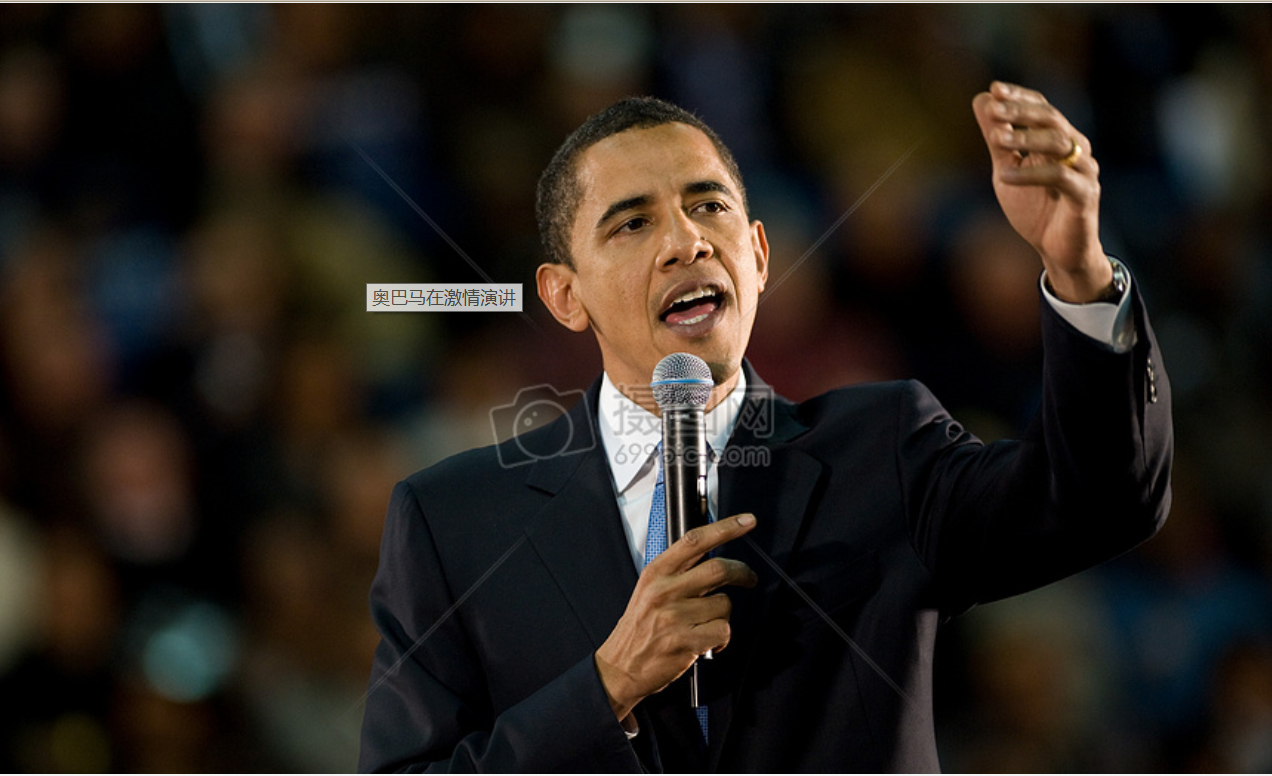no-phone: (965, 76, 1103, 274)
